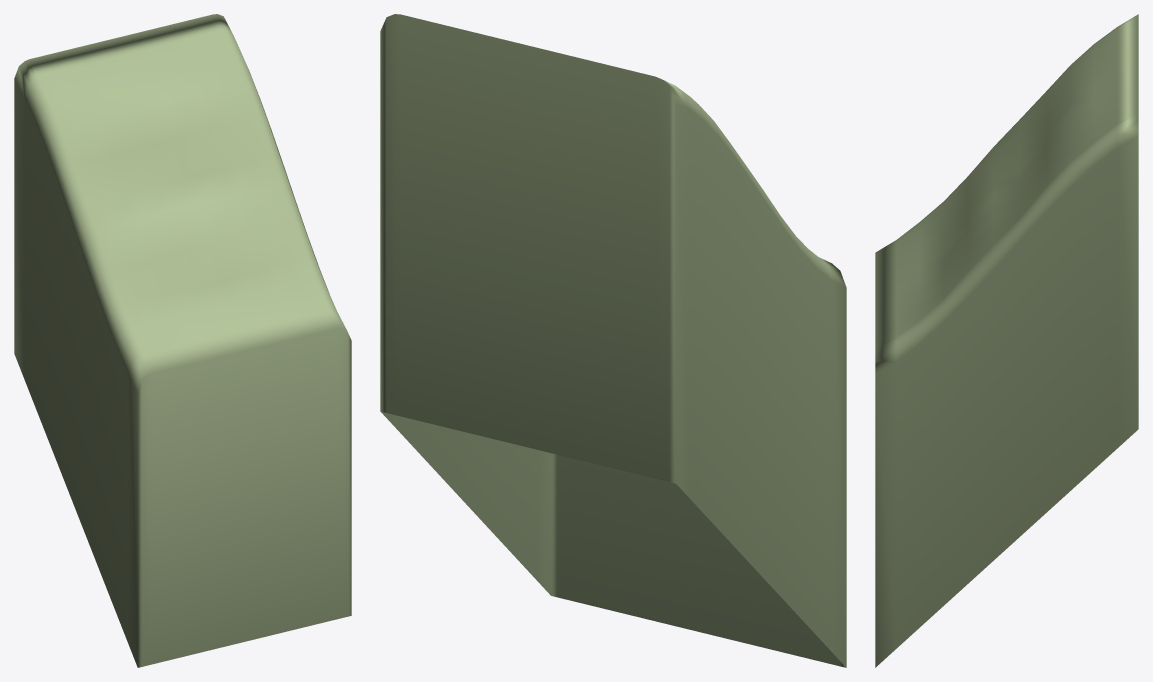
Rendered from ground-ramp-lr-12.glb.
3 renders of one model, left to right at view 1: azimuth 30°, elevation 25°; view 2: azimuth 150°, elevation 25°; view 3: azimuth 270°, elevation 25°, orthographic. The views are drawn at different scales.
Visible parts, largest first — view 1: ground-ramp-lr-12; view 2: ground-ramp-lr-12; view 3: ground-ramp-lr-12.
Boxes of the visible parts, x1=… form: ground-ramp-lr-12: x1=14, y1=14, x2=351, y2=667; ground-ramp-lr-12: x1=380, y1=14, x2=846, y2=667; ground-ramp-lr-12: x1=875, y1=14, x2=1138, y2=667.
Size of the model in its own units: 1 by 2.3 by 1.
